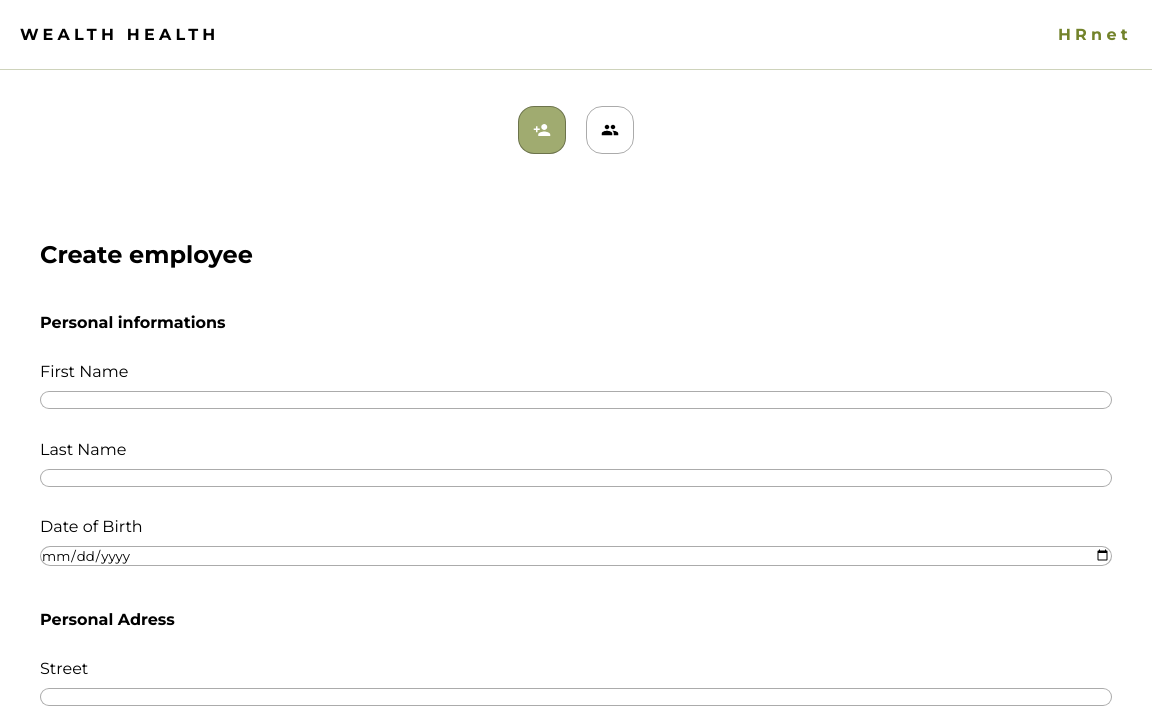
it: When I am on the create employee page and I click on button create employee › Then I should see the button navigation show employees and when I click see the show employees page
Step 1. Click the 2nd link → (610, 130), box [586,106,634,154]
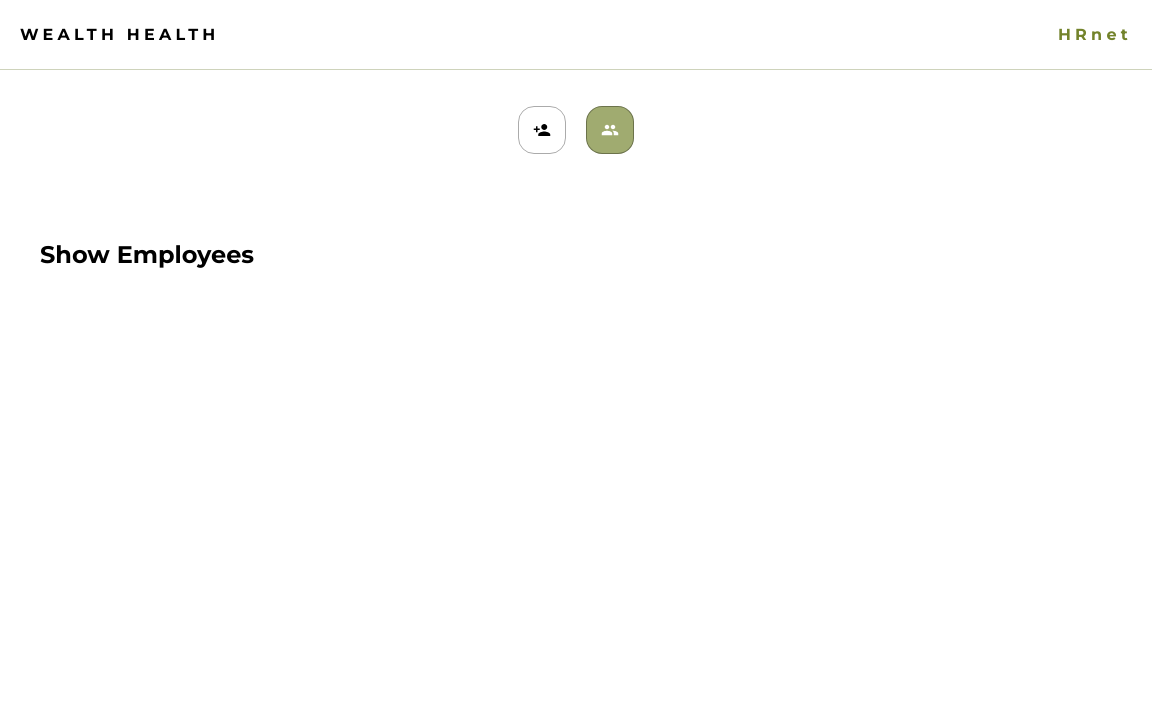
Expected: the heading "Show Employees" is shown, [40,240,254,269]
